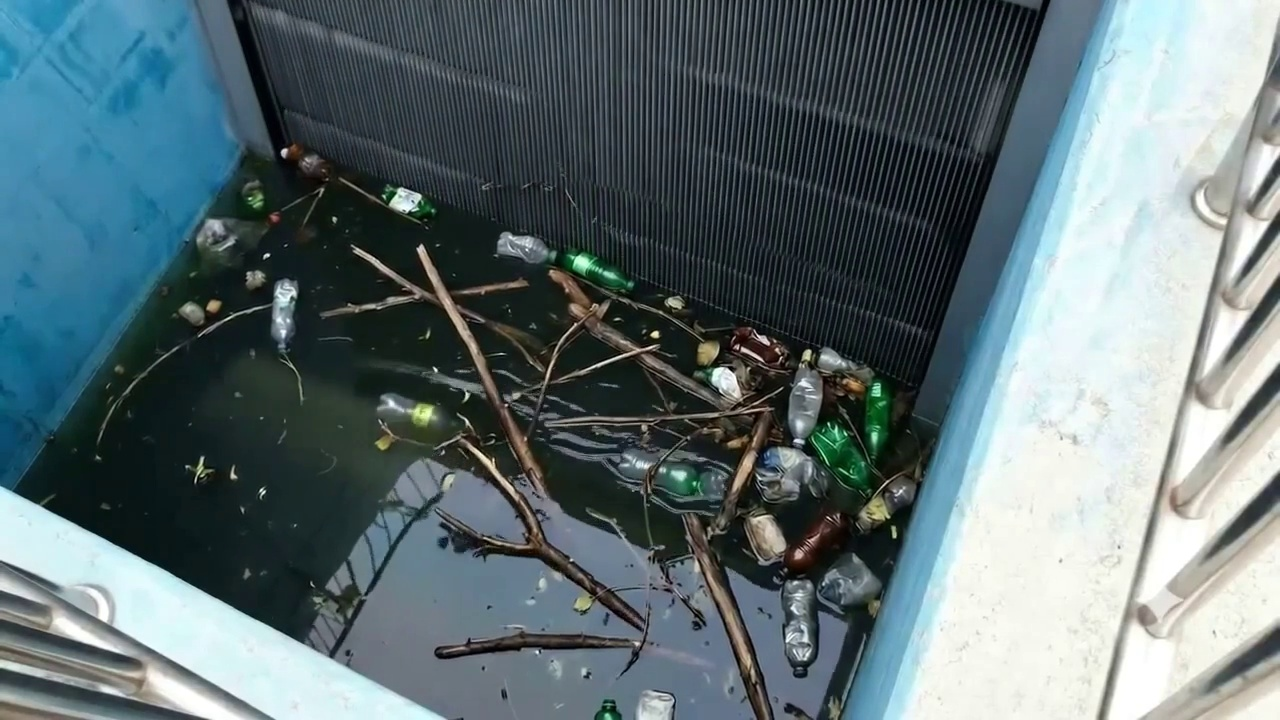debris: (570, 305, 917, 677), (380, 395, 647, 634), (352, 246, 548, 498), (417, 246, 549, 498), (683, 515, 773, 719), (617, 449, 746, 511), (437, 631, 646, 663), (195, 217, 268, 272), (543, 248, 633, 292), (475, 536, 580, 569), (374, 186, 435, 224), (280, 145, 336, 182), (272, 279, 298, 351), (499, 233, 536, 249), (479, 366, 495, 391), (525, 522, 542, 532), (516, 439, 527, 454)
